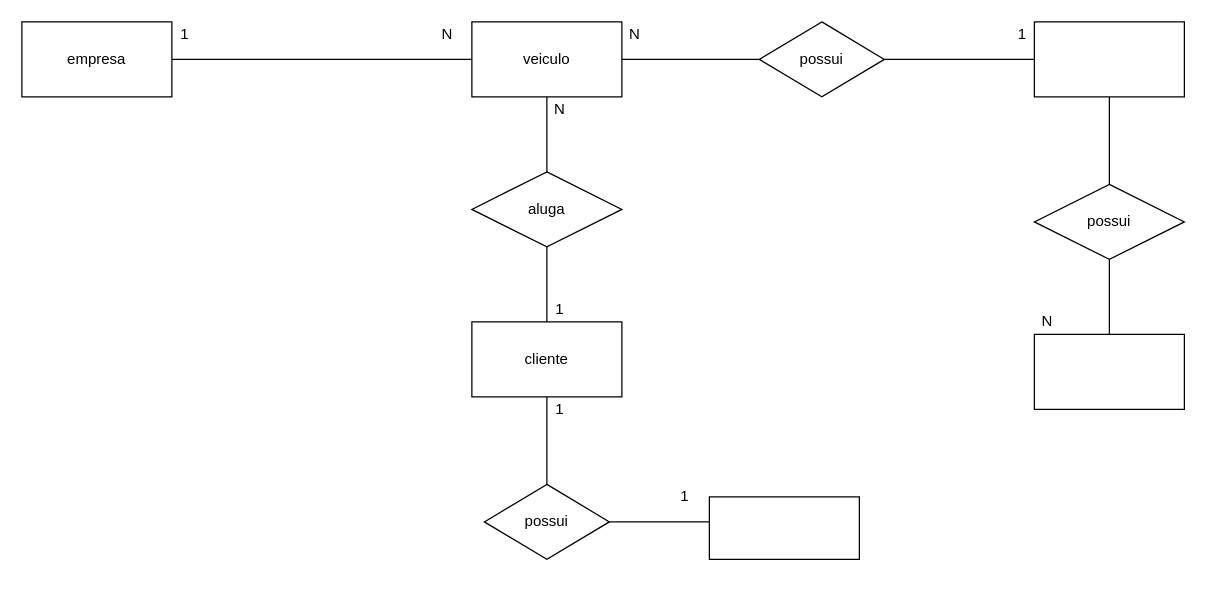
The diagram is 1206 pixels wide and 591 high, and some of its shapes have lost their labels. The centre of each missing label's shape, as x and y in pixels:
"cpf" belongs at pixel 783 527.
"marca" belongs at pixel 1108 59.
"modelo" belongs at pixel 1108 371.
